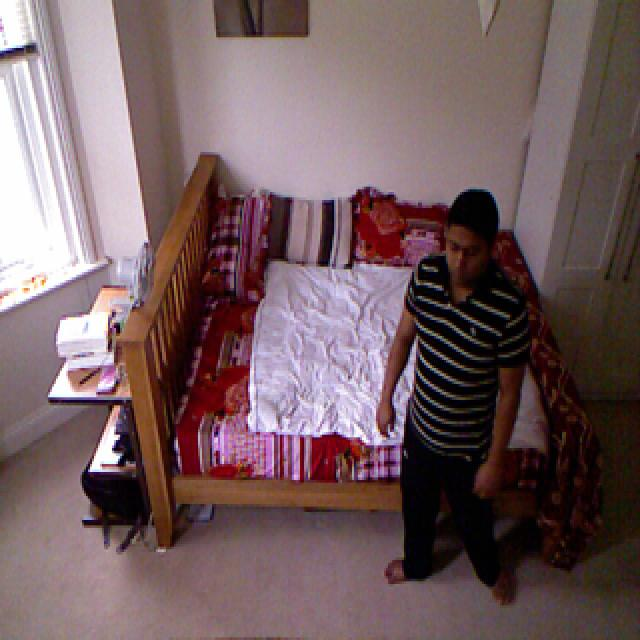standing: (384, 194, 536, 599)
